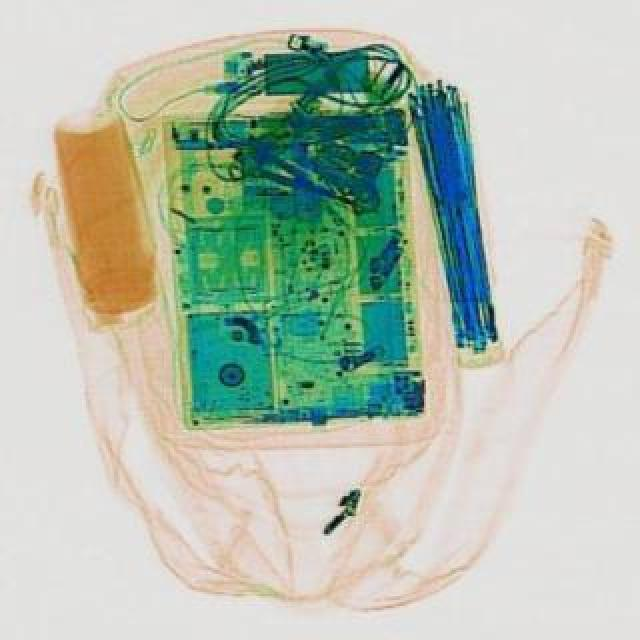wrench: (258, 150, 344, 206)
